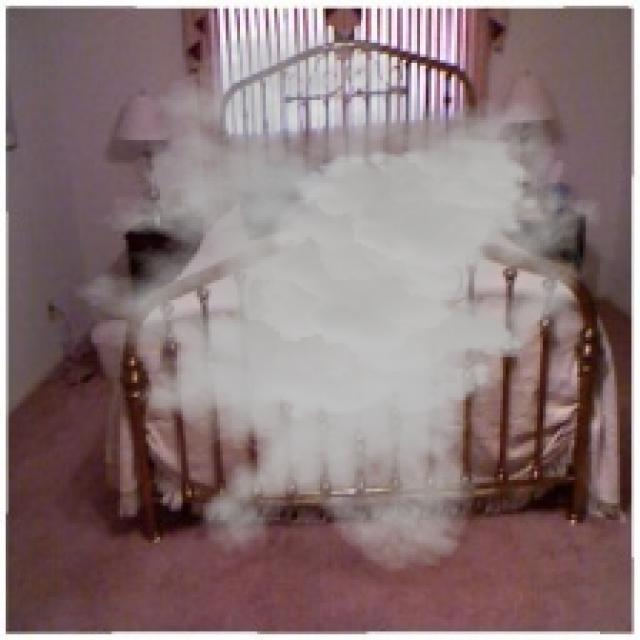smoke: (48, 26, 603, 574)
